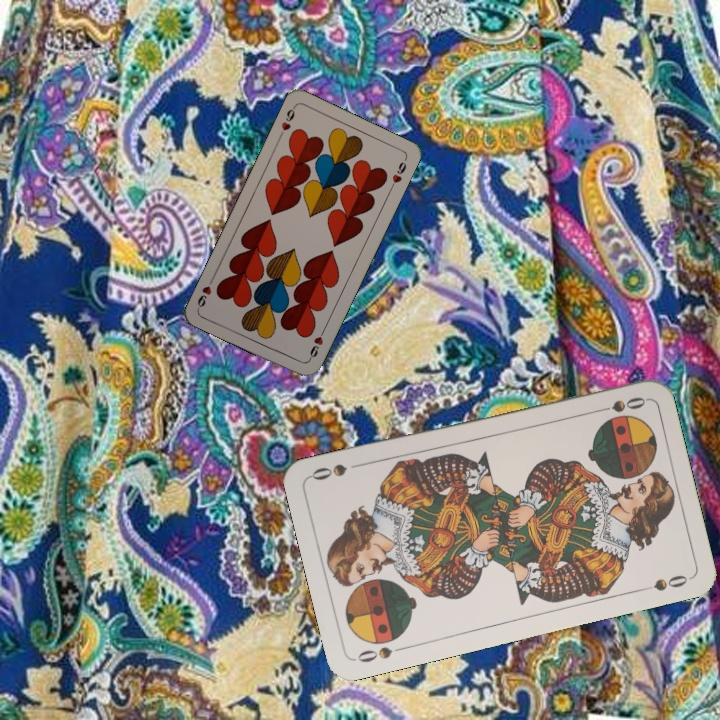H9: (304, 325, 328, 363), (275, 102, 298, 140)
SO: (589, 392, 648, 416), (353, 642, 410, 665)
